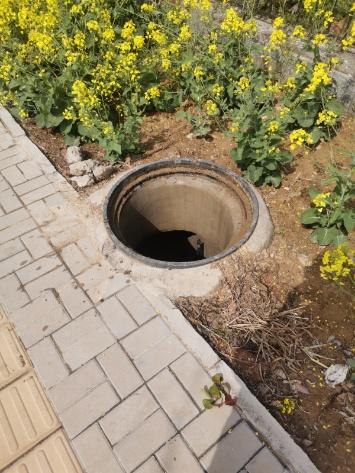wellcover: (100, 152, 265, 267)
